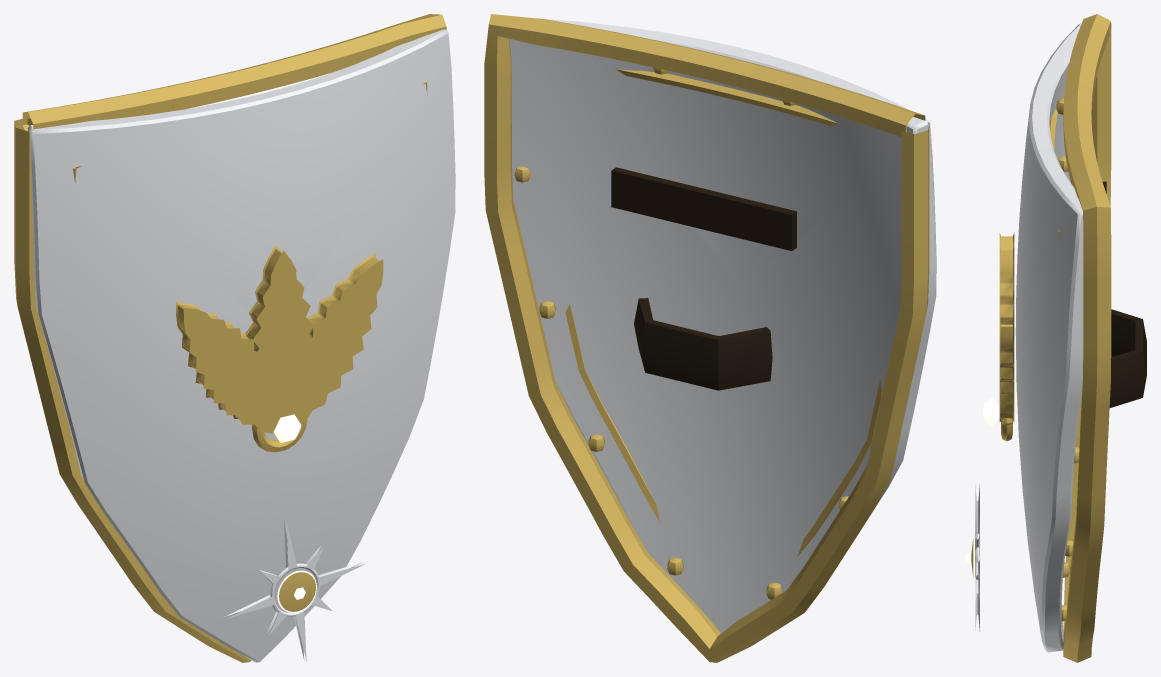
File: esc_final_dawn_executor_shield.glb
3 views of the same model, side by side, from view 1: azimuth 30°, elevation 25°; view 2: azimuth 150°, elevation 25°; view 3: azimuth 270°, elevation 25° (orthographic). The views are drawn at different scales.
Visible parts, largest first — view 1: esc_final_dawn_executor_shield; view 2: esc_final_dawn_executor_shield; view 3: esc_final_dawn_executor_shield.
Part boxes in pixels (box(x1,y1,x2,y2)): esc_final_dawn_executor_shield: box(14, 14, 455, 662); esc_final_dawn_executor_shield: box(484, 14, 936, 662); esc_final_dawn_executor_shield: box(965, 14, 1146, 662).
Size of the model in its own units: 0.636 by 0.8354 by 0.2478.
